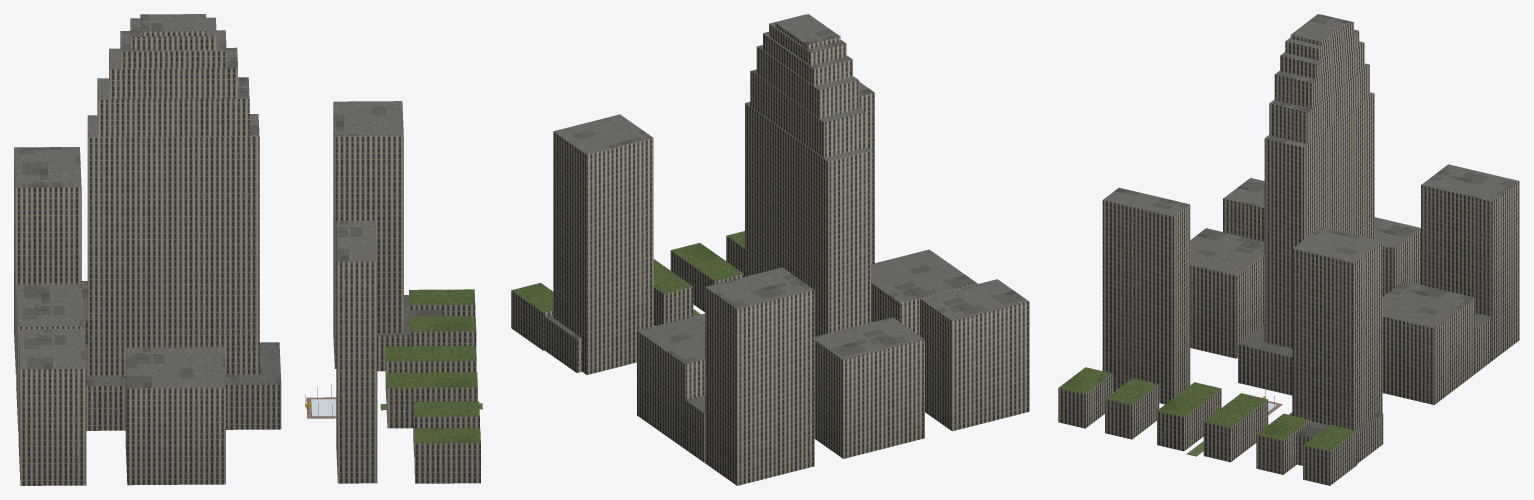
Rendered from rock.glb.
3 views of the same model, side by side, from view 1: azimuth 30°, elevation 25°; view 2: azimuth 150°, elevation 25°; view 3: azimuth 270°, elevation 25° (orthographic). The views are drawn at different scales.
Parts seen in each view (by area): view 1: rock; view 2: rock; view 3: rock.
Boxes of the visible parts, x1,y1,x2,y2 form: rock: (14,14,482,485); rock: (511,14,1029,485); rock: (1058,14,1519,485).
Bounding box in the file's own units: 352 × 259 × 328.
63 materials, 46 textured.
